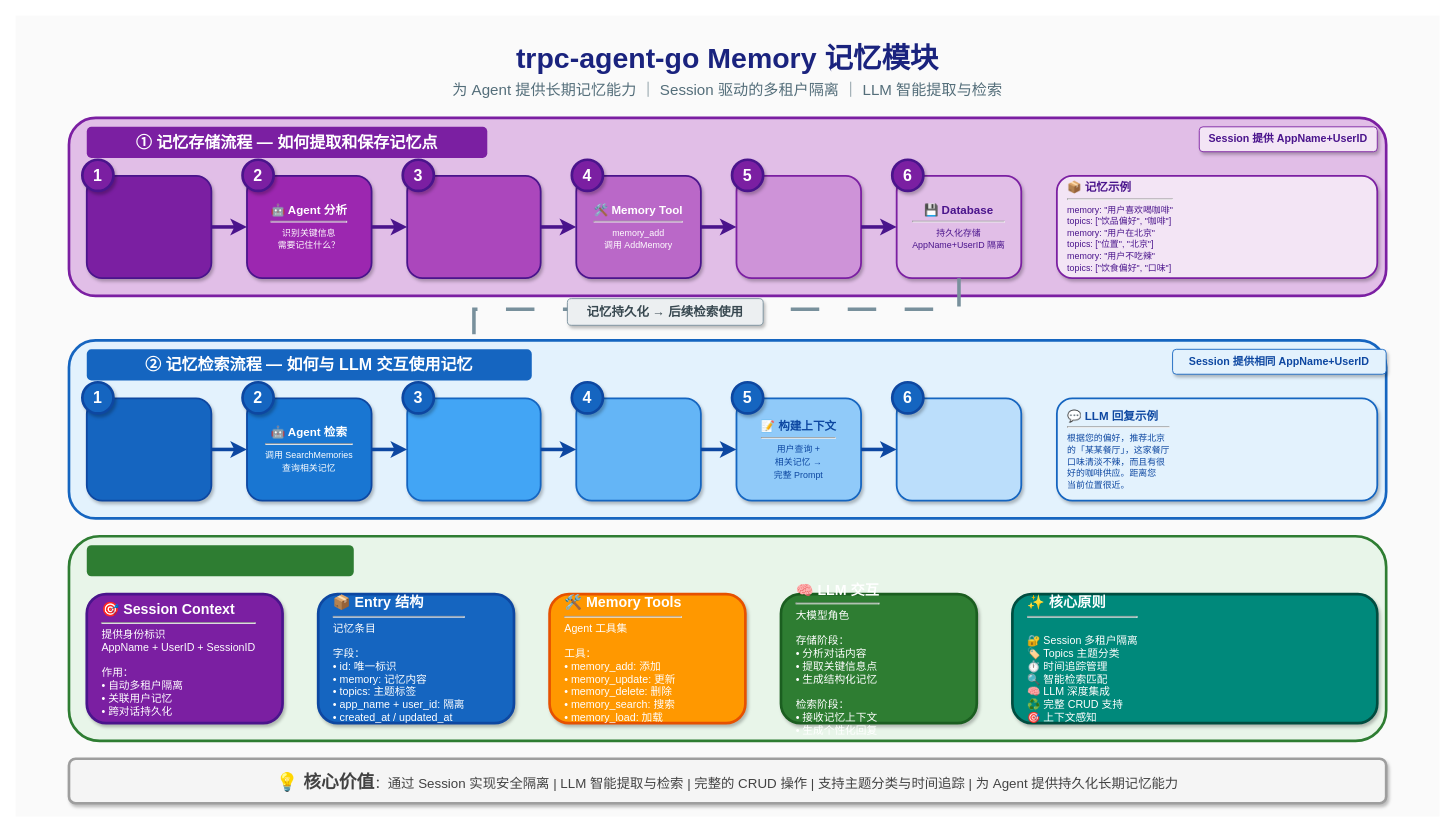
This 1454x831 diagram has some shape labels left out. The centre of each missing label's shape, as x and y in pixels:
"③ 核心设计与关键组件" goes at (x=219, y=560).
"👤 用户对话 用户：我喜欢喝咖啡 地点：北京 偏好：不吃辣" goes at (x=149, y=228).
"👤 用户查询 用户：推荐一家 附近的餐厅" goes at (x=149, y=450).
"💾 Memory Service 从 Database 检索 匹配相关记忆" goes at (x=474, y=450).
"💾 Memory Service 验证 Session 构建 Entry" goes at (x=799, y=228).
"📋 返回记忆 位置：北京 饮食：不吃辣 饮品：喜欢咖啡" goes at (x=639, y=450).
"🧠 LLM 提取 分析对话内容 提取结构化信息 生成 Topics 标签" goes at (x=474, y=228).
"🧠 LLM 生成 基于记忆上下文 生成个性化回复" goes at (x=959, y=450).
